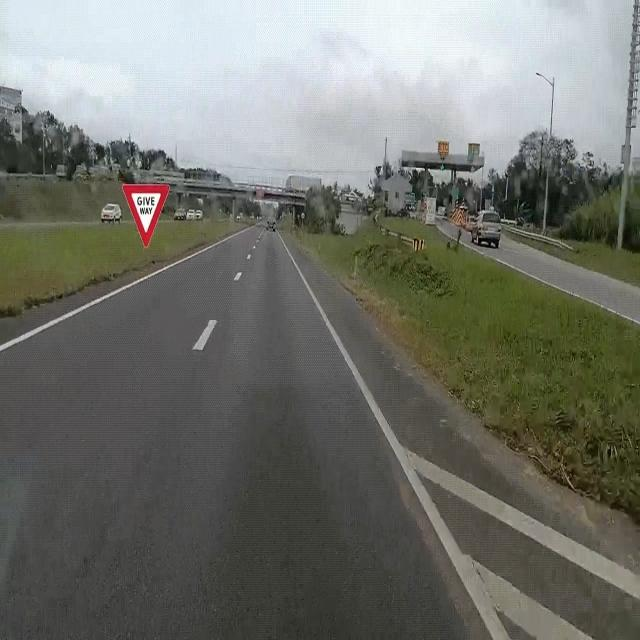Ceder-le-Passage: (118, 173, 174, 250)
